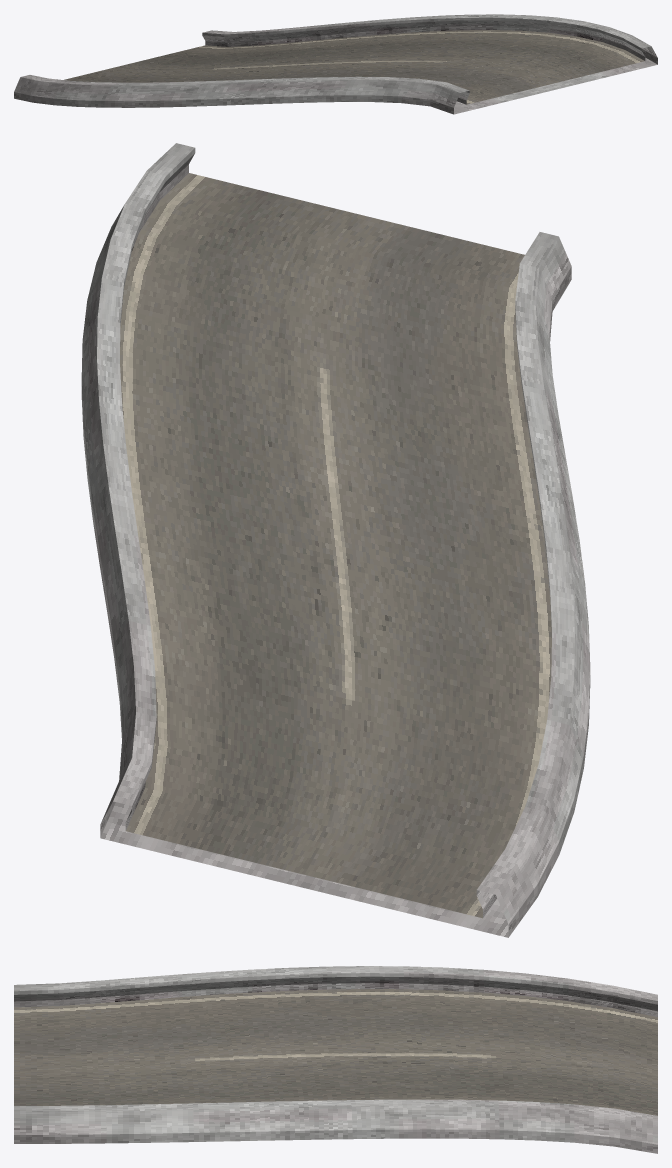
Rendered from road-Chicane-Flat-BiSlopeDown-Down2-Left1-Size2.glb.
The picture shows the model from 3 angles, top to bottom: view 1: azimuth 30°, elevation 25°; view 2: azimuth 150°, elevation 25°; view 3: azimuth 270°, elevation 25°; orthographic projection. The views are drawn at different scales.
Visible parts, largest first — view 1: road-Chicane-Flat-BiSlopeDown-Down2-Left1-Size2; view 2: road-Chicane-Flat-BiSlopeDown-Down2-Left1-Size2; view 3: road-Chicane-Flat-BiSlopeDown-Down2-Left1-Size2.
Part boxes in pixels (left/top/right/bottom): road-Chicane-Flat-BiSlopeDown-Down2-Left1-Size2: left=14, top=14, right=657, bottom=114; road-Chicane-Flat-BiSlopeDown-Down2-Left1-Size2: left=81, top=143, right=590, bottom=937; road-Chicane-Flat-BiSlopeDown-Down2-Left1-Size2: left=14, top=966, right=657, bottom=1153.
Bounding box in the file's own units: 2 × 0.5938 × 2.
2 materials, 2 textured.
